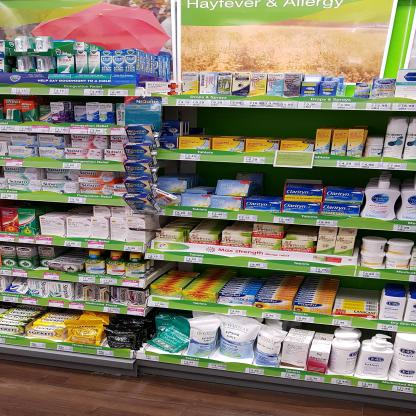Void: (192, 109, 313, 137), (322, 109, 384, 128), (344, 278, 382, 300), (325, 170, 363, 190), (192, 160, 216, 190), (261, 165, 281, 198)
